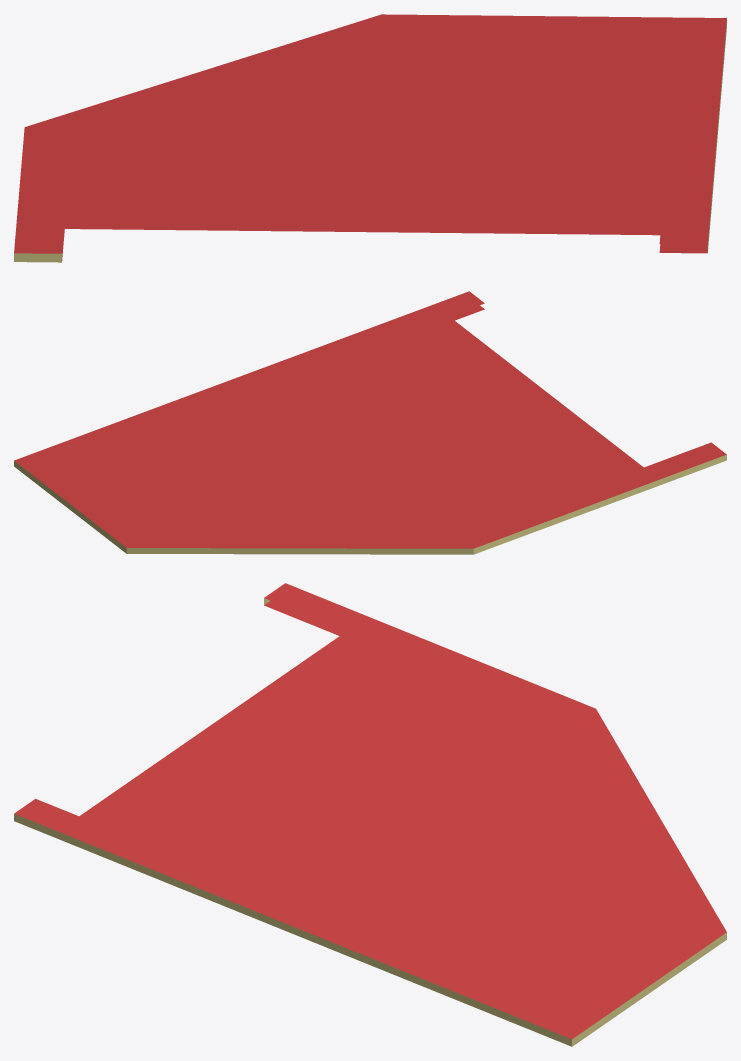
3 views of the same model, one above another, from view 1: azimuth 30°, elevation 25°; view 2: azimuth 150°, elevation 25°; view 3: azimuth 270°, elevation 25° (orthographic). The views are drawn at different scales.
Size of the model in its own units: 10.56 by 8.62 by 1.26.
